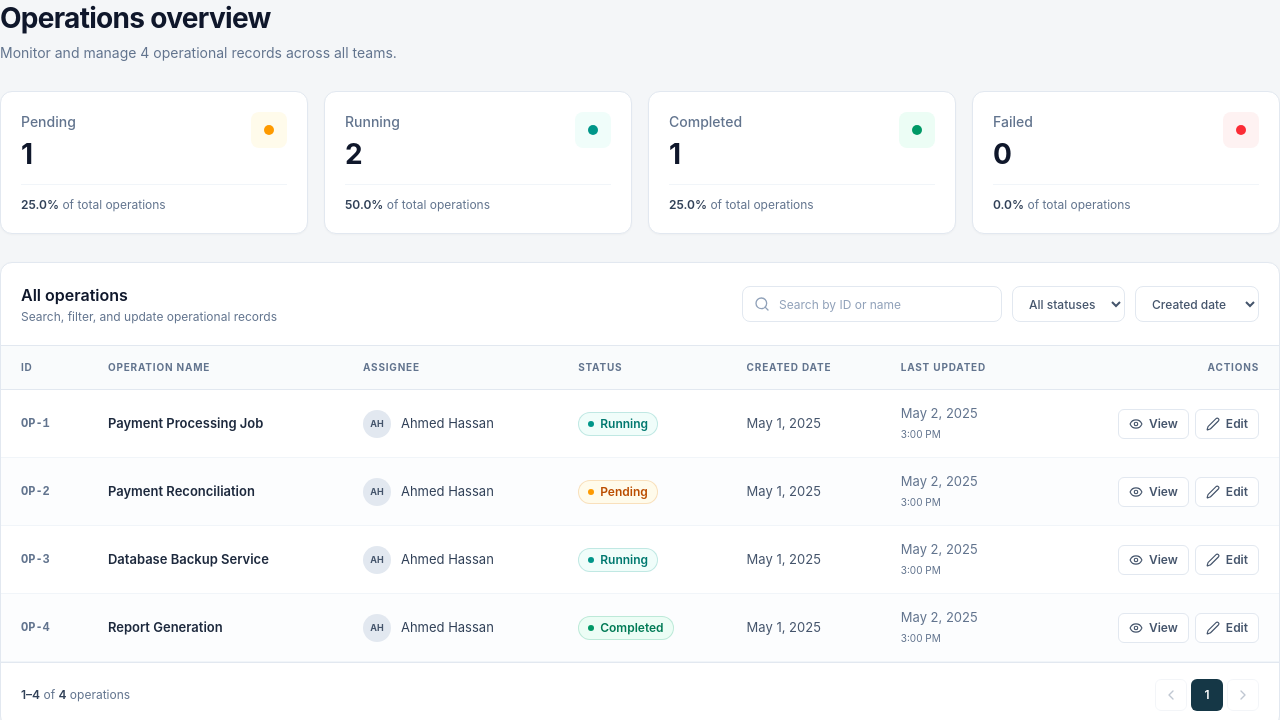
Test: OperationsPage integration › combined search and filtering › narrows the list to rows matching BOTH the search query and the status filter
The image size is (1280, 720).
Check: the text "OP-1" is shown, box [1, 390, 92, 458]
Check: the text "OP-2" is shown, box [1, 458, 92, 526]
البحث "payment" يطابق OP-1 و OP-2 فقط
Type "payment" into the field with placeholder "Search by ID or name".
click(872, 304); type("payment")  # box [742, 286, 1002, 322]
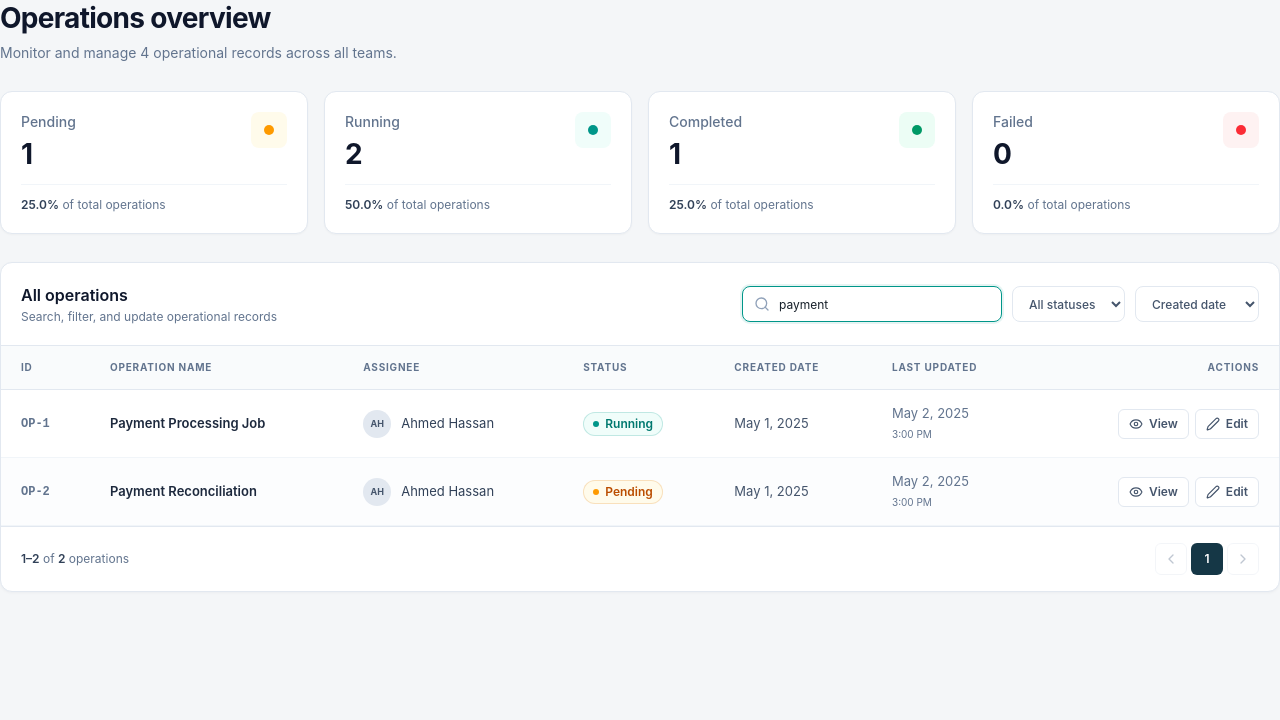
Check: the text "OP-1" is shown, box [1, 390, 94, 458]
Check: the text "OP-3" is gone
Check: the text "OP-4" is gone
إضافة فلتر Running يضيّق النتيجة لـ OP-1 فقط (Intersection)
Select "Running" in the dropdown named "filter by status" at (1068, 304), box [1012, 286, 1125, 322]
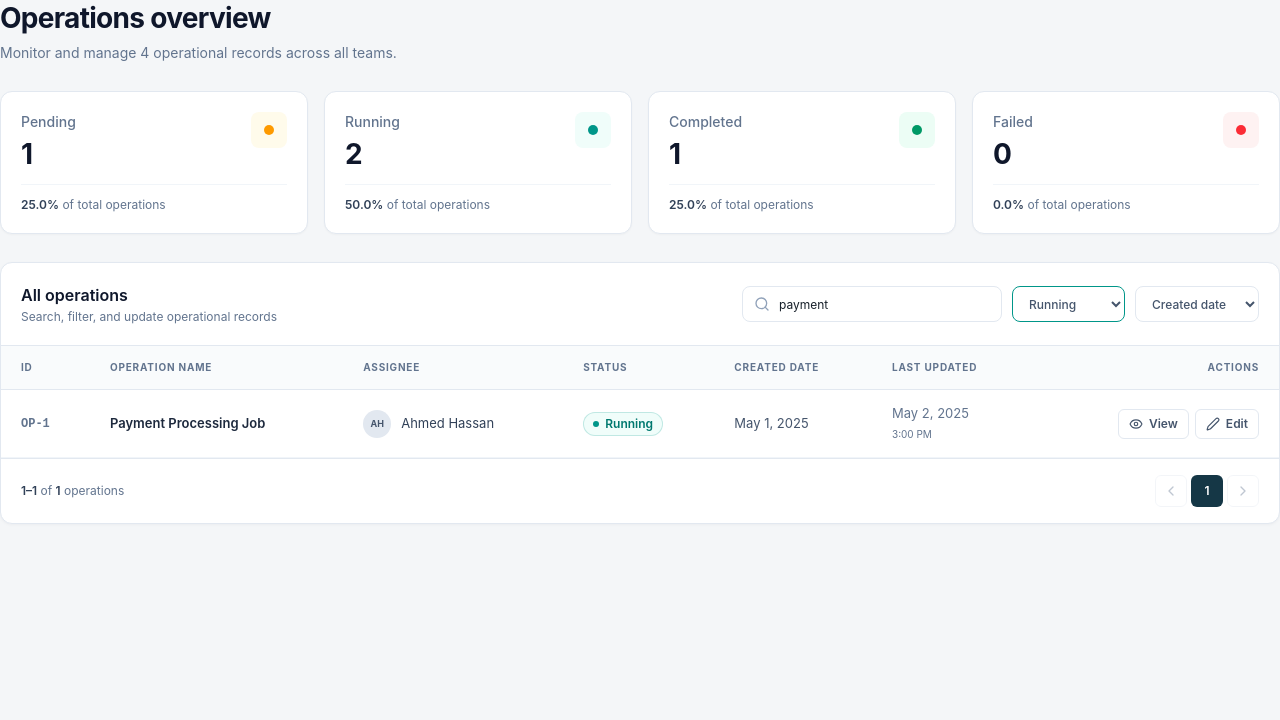
Check: the text "OP-1" is shown, box [1, 390, 94, 458]
Check: the text "OP-2" is gone
